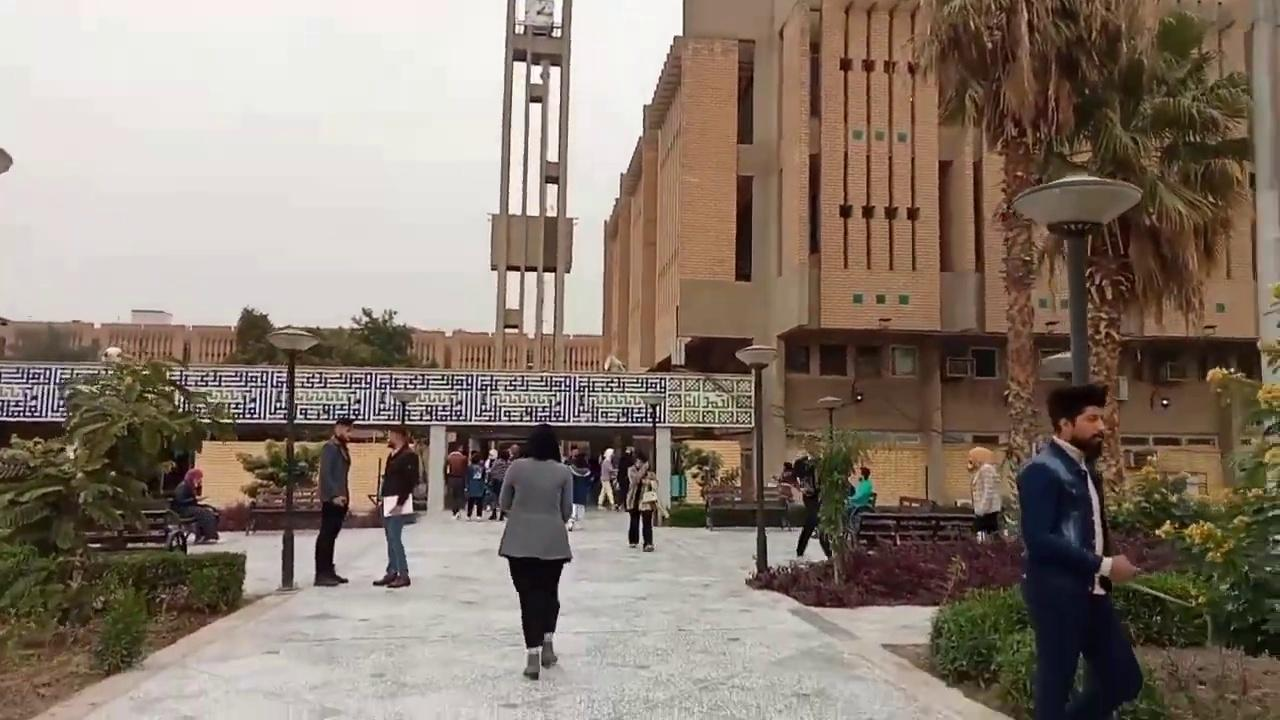person: (1015, 382, 1144, 718), (497, 423, 574, 679), (372, 424, 420, 588), (313, 414, 355, 586), (792, 450, 832, 559), (171, 468, 220, 543), (966, 446, 1002, 543), (845, 466, 874, 537)
tree: (901, 0, 1139, 528), (1032, 8, 1254, 503), (0, 345, 236, 632), (1105, 280, 1279, 659), (234, 436, 327, 588), (786, 421, 874, 580), (234, 437, 325, 506), (347, 305, 415, 366), (222, 304, 278, 364)
